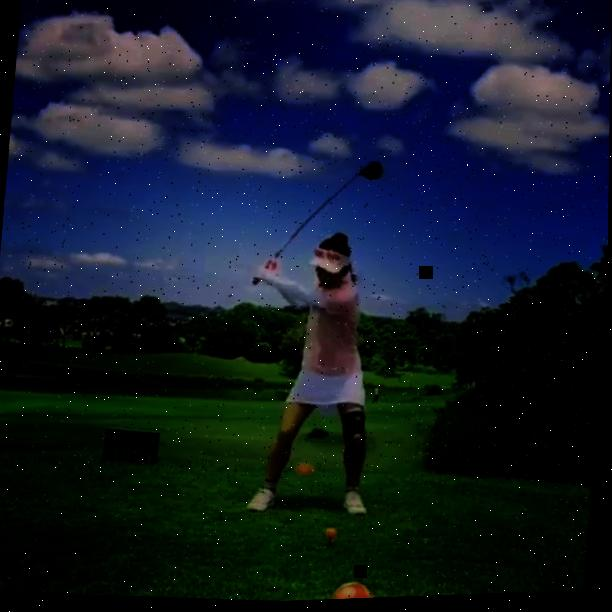ClubHead: (362, 163, 383, 184)
GolfBall: (327, 529, 339, 541)
